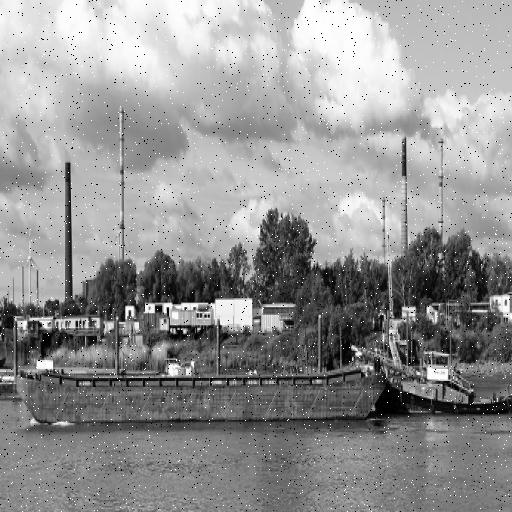tugboat: (386, 329, 512, 424)
